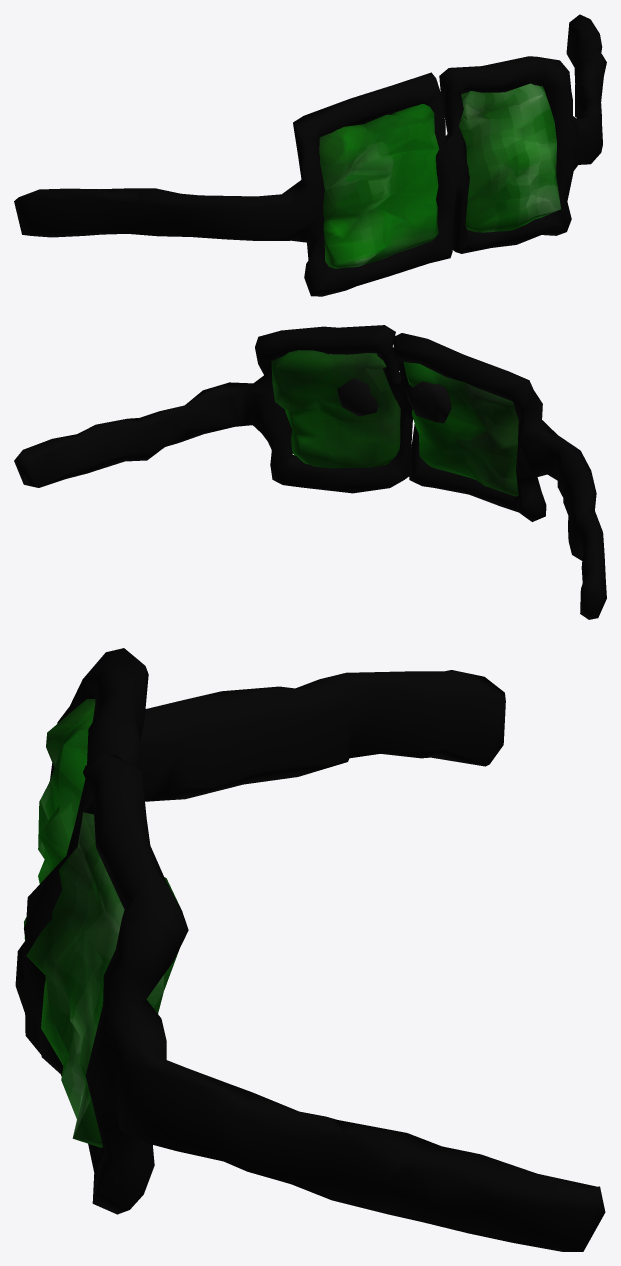
File: matrix shades.glb
3 renders of one model, top to bottom at view 1: azimuth 30°, elevation 25°; view 2: azimuth 150°, elevation 25°; view 3: azimuth 270°, elevation 25°, orthographic. The views are drawn at different scales.
Parts seen in each view (by area): view 1: eyes_glasses_shades_matrix.001; view 2: eyes_glasses_shades_matrix.001; view 3: eyes_glasses_shades_matrix.001.
Part boxes in pixels (<box>): eyes_glasses_shades_matrix.001: <box>14,14,606,296</box>; eyes_glasses_shades_matrix.001: <box>14,325,606,619</box>; eyes_glasses_shades_matrix.001: <box>15,648,605,1251</box>.
Bounding box in the file's own units: 0.3251 × 0.1009 × 0.1484.
3 materials, 3 textured.
